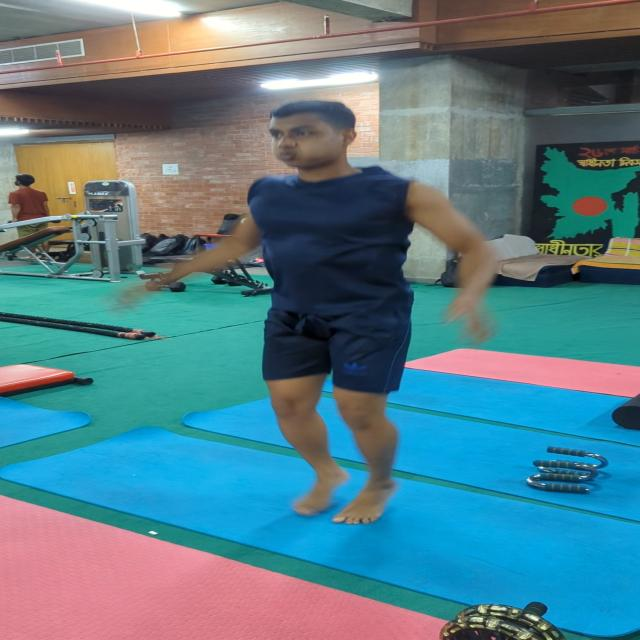Normal_JumpingJacks: (152, 89, 518, 539)
